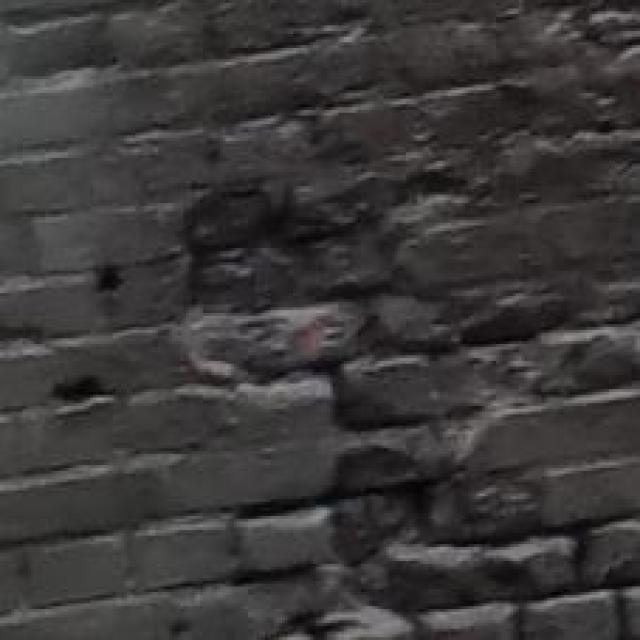Crack: (151, 147, 614, 640)
